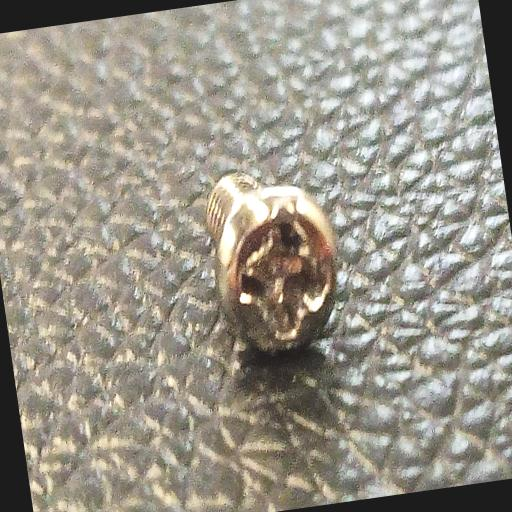Phillips: (195, 162, 353, 374)
